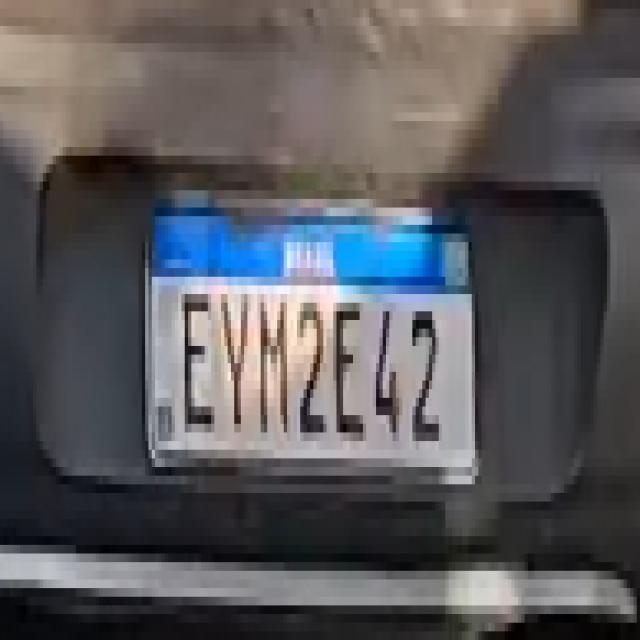Placa_mercosul_carro: (141, 202, 480, 481)
